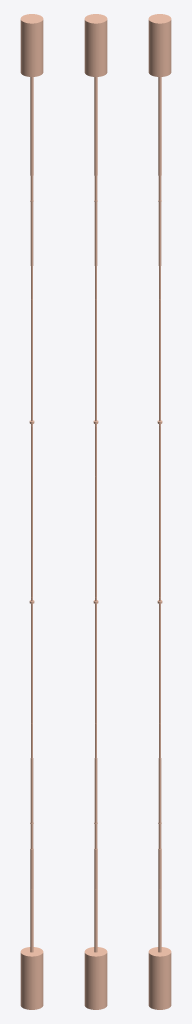
Rendered from rbeampipe.fbx.
3 views of the same model, side by side, from view 1: azimuth 30°, elevation 25°; view 2: azimuth 150°, elevation 25°; view 3: azimuth 330°, elevation 25° (orthographic).
Visible parts, largest first — view 1: /tmp/importOpenSceneGraph9b7ef/RBeamPipe.wrl_Group_Group_Mat, /tmp/importOpenSceneGraph9b7ef/RBeamPipe.wrl_Group_Group__Ge, /tmp/importOpenSceneGraph9b7ef/RBeamPipe.wrl_Group_MatrixTra; view 2: /tmp/importOpenSceneGraph9b7ef/RBeamPipe.wrl_Group_Group_Mat, /tmp/importOpenSceneGraph9b7ef/RBeamPipe.wrl_Group_Group__Ge, /tmp/importOpenSceneGraph9b7ef/RBeamPipe.wrl_Group_MatrixTra; view 3: /tmp/importOpenSceneGraph9b7ef/RBeamPipe.wrl_Group_Group_Mat, /tmp/importOpenSceneGraph9b7ef/RBeamPipe.wrl_Group_Group__Ge, /tmp/importOpenSceneGraph9b7ef/RBeamPipe.wrl_Group_MatrixTra.
Part boxes in pixels (x1,y1,x2,y2): /tmp/importOpenSceneGraph9b7ef/RBeamPipe.wrl_Group_Group_Mat: (20,14,43,476); /tmp/importOpenSceneGraph9b7ef/RBeamPipe.wrl_Group_Group__Ge: (20,547,43,1009); /tmp/importOpenSceneGraph9b7ef/RBeamPipe.wrl_Group_MatrixTra: (31,477,32,547); /tmp/importOpenSceneGraph9b7ef/RBeamPipe.wrl_Group_Group_Mat: (84,14,107,476); /tmp/importOpenSceneGraph9b7ef/RBeamPipe.wrl_Group_Group__Ge: (84,547,107,1009); /tmp/importOpenSceneGraph9b7ef/RBeamPipe.wrl_Group_MatrixTra: (95,477,96,547); /tmp/importOpenSceneGraph9b7ef/RBeamPipe.wrl_Group_Group_Mat: (148,14,171,476); /tmp/importOpenSceneGraph9b7ef/RBeamPipe.wrl_Group_Group__Ge: (148,547,171,1009); /tmp/importOpenSceneGraph9b7ef/RBeamPipe.wrl_Group_MatrixTra: (159,477,160,547).
Bounding box in the file's own units: 872 × 41880 × 872.
